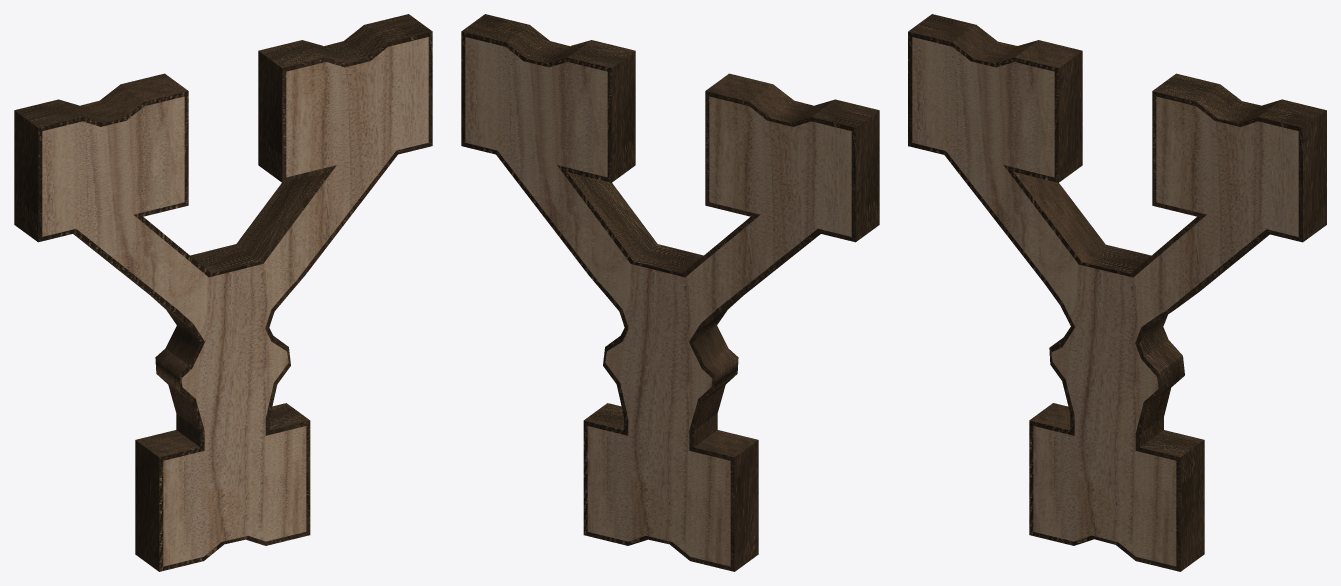
3 views of the same model, side by side, from view 1: azimuth 30°, elevation 25°; view 2: azimuth 150°, elevation 25°; view 3: azimuth 330°, elevation 25° (orthographic).
Visible parts, largest first — view 1: Y, Y_outline; view 2: Y, Y_outline; view 3: Y, Y_outline.
Boxes of the visible parts, x1=… form: Y: x1=42, y1=37, x2=428, y2=566; Y_outline: x1=14, y1=14, x2=432, y2=571; Y: x1=465, y1=37, x2=851, y2=566; Y_outline: x1=461, y1=14, x2=879, y2=571; Y: x1=912, y1=37, x2=1298, y2=566; Y_outline: x1=908, y1=14, x2=1326, y2=571.
Bounding box in the file's own units: 94.85 × 109 × 10.
Materials: 2 (2 with a texture image).
